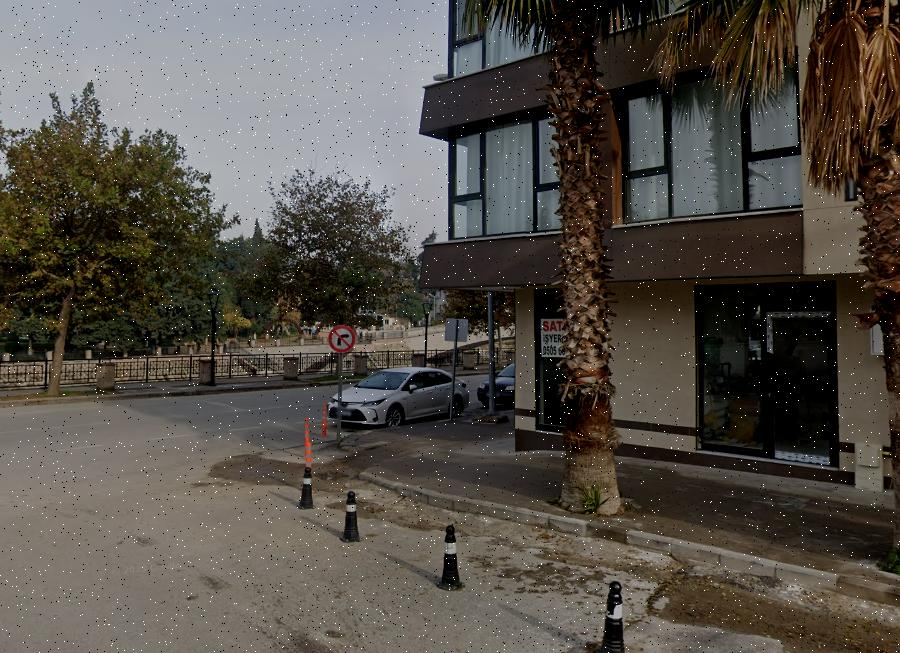rightturnsareforbidden: (330, 326, 354, 352)
